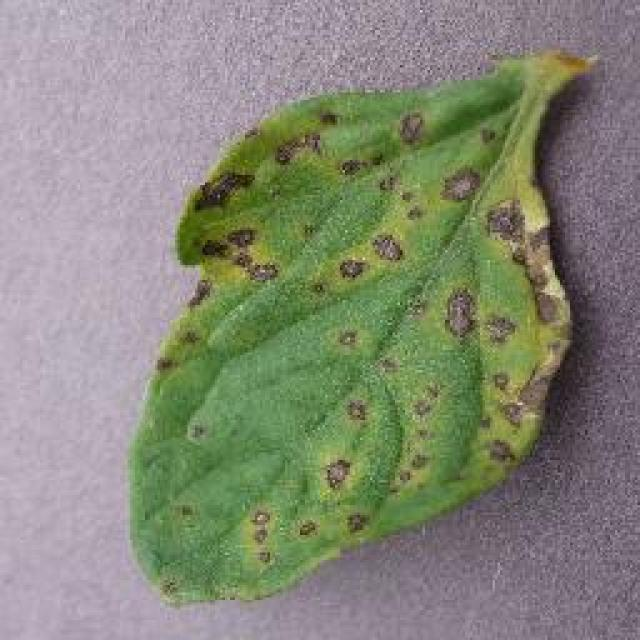Tomato___Septoria_leaf_spot: (130, 55, 585, 600)
